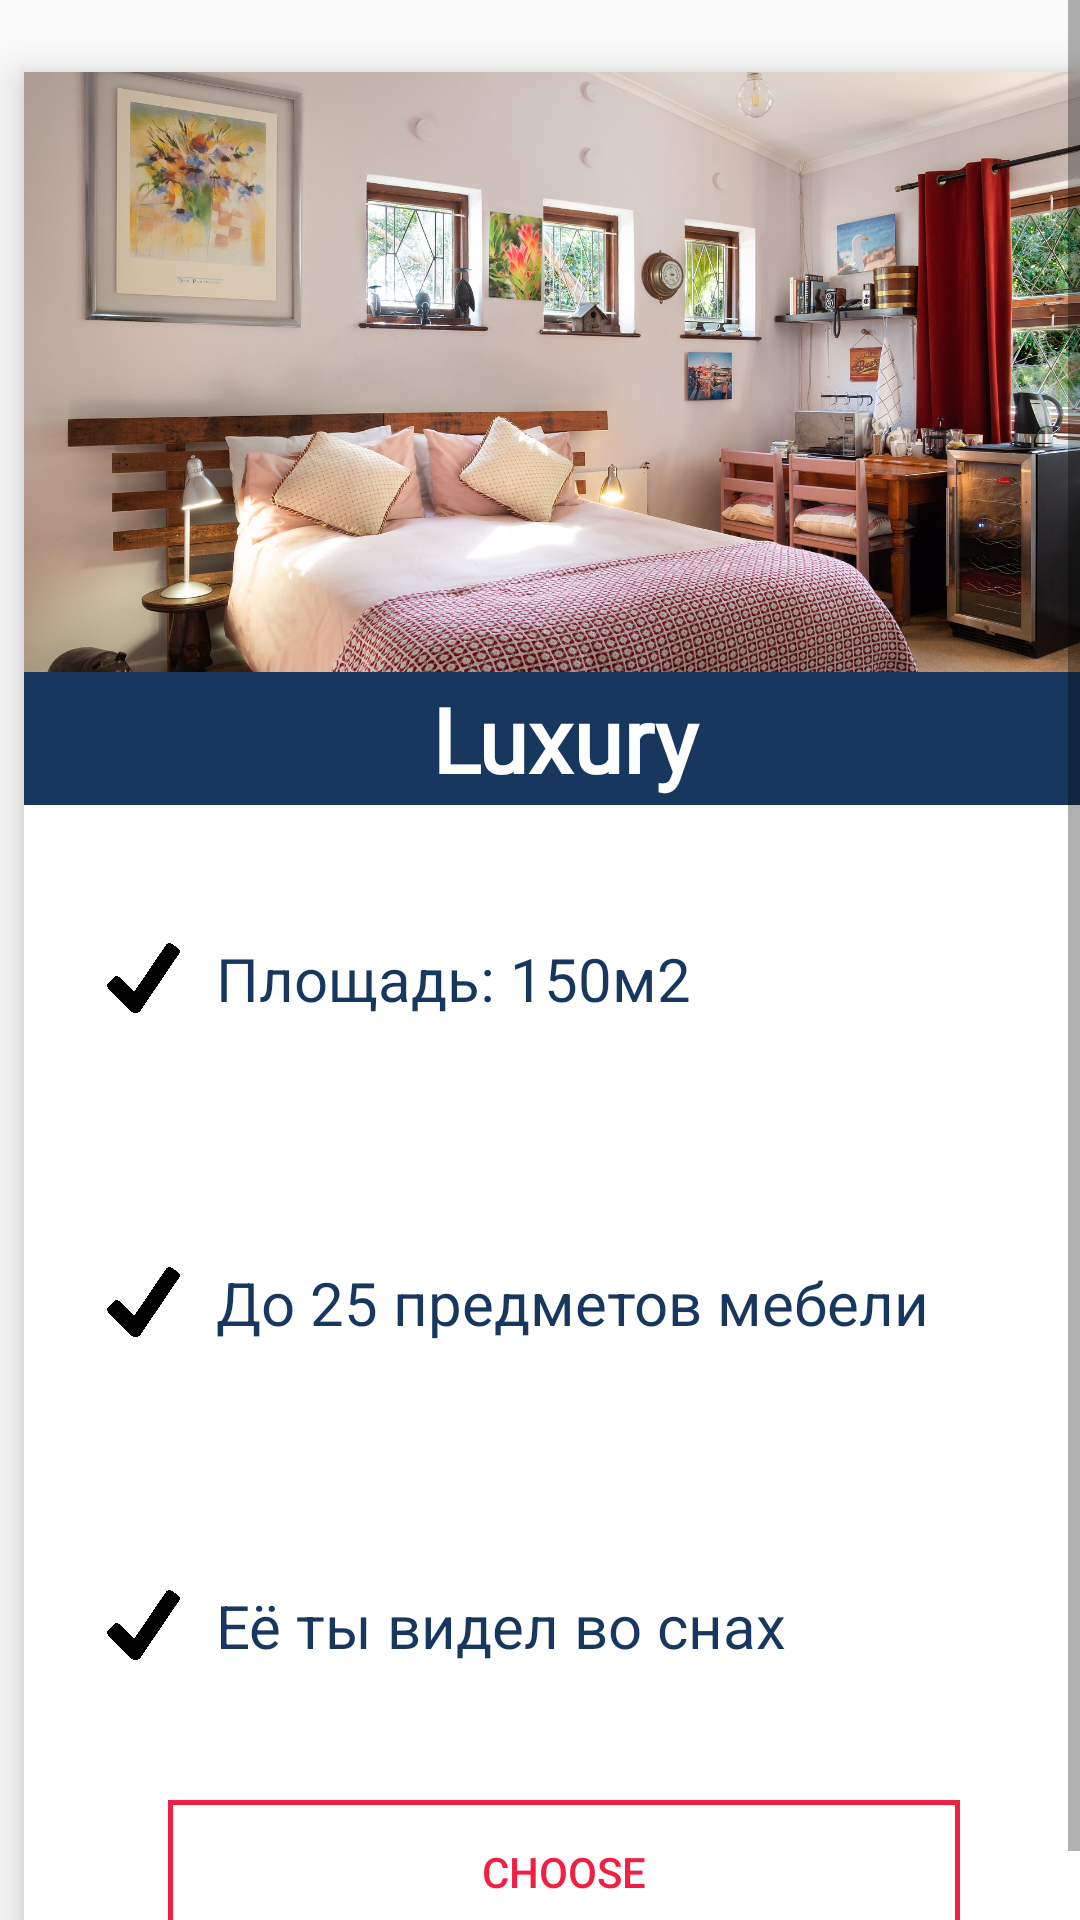

Point at icon controls on the screen. Image size 1080x1920, points as point (x, y).
galochka: point (143, 978), point (143, 1302), point (143, 1625)
